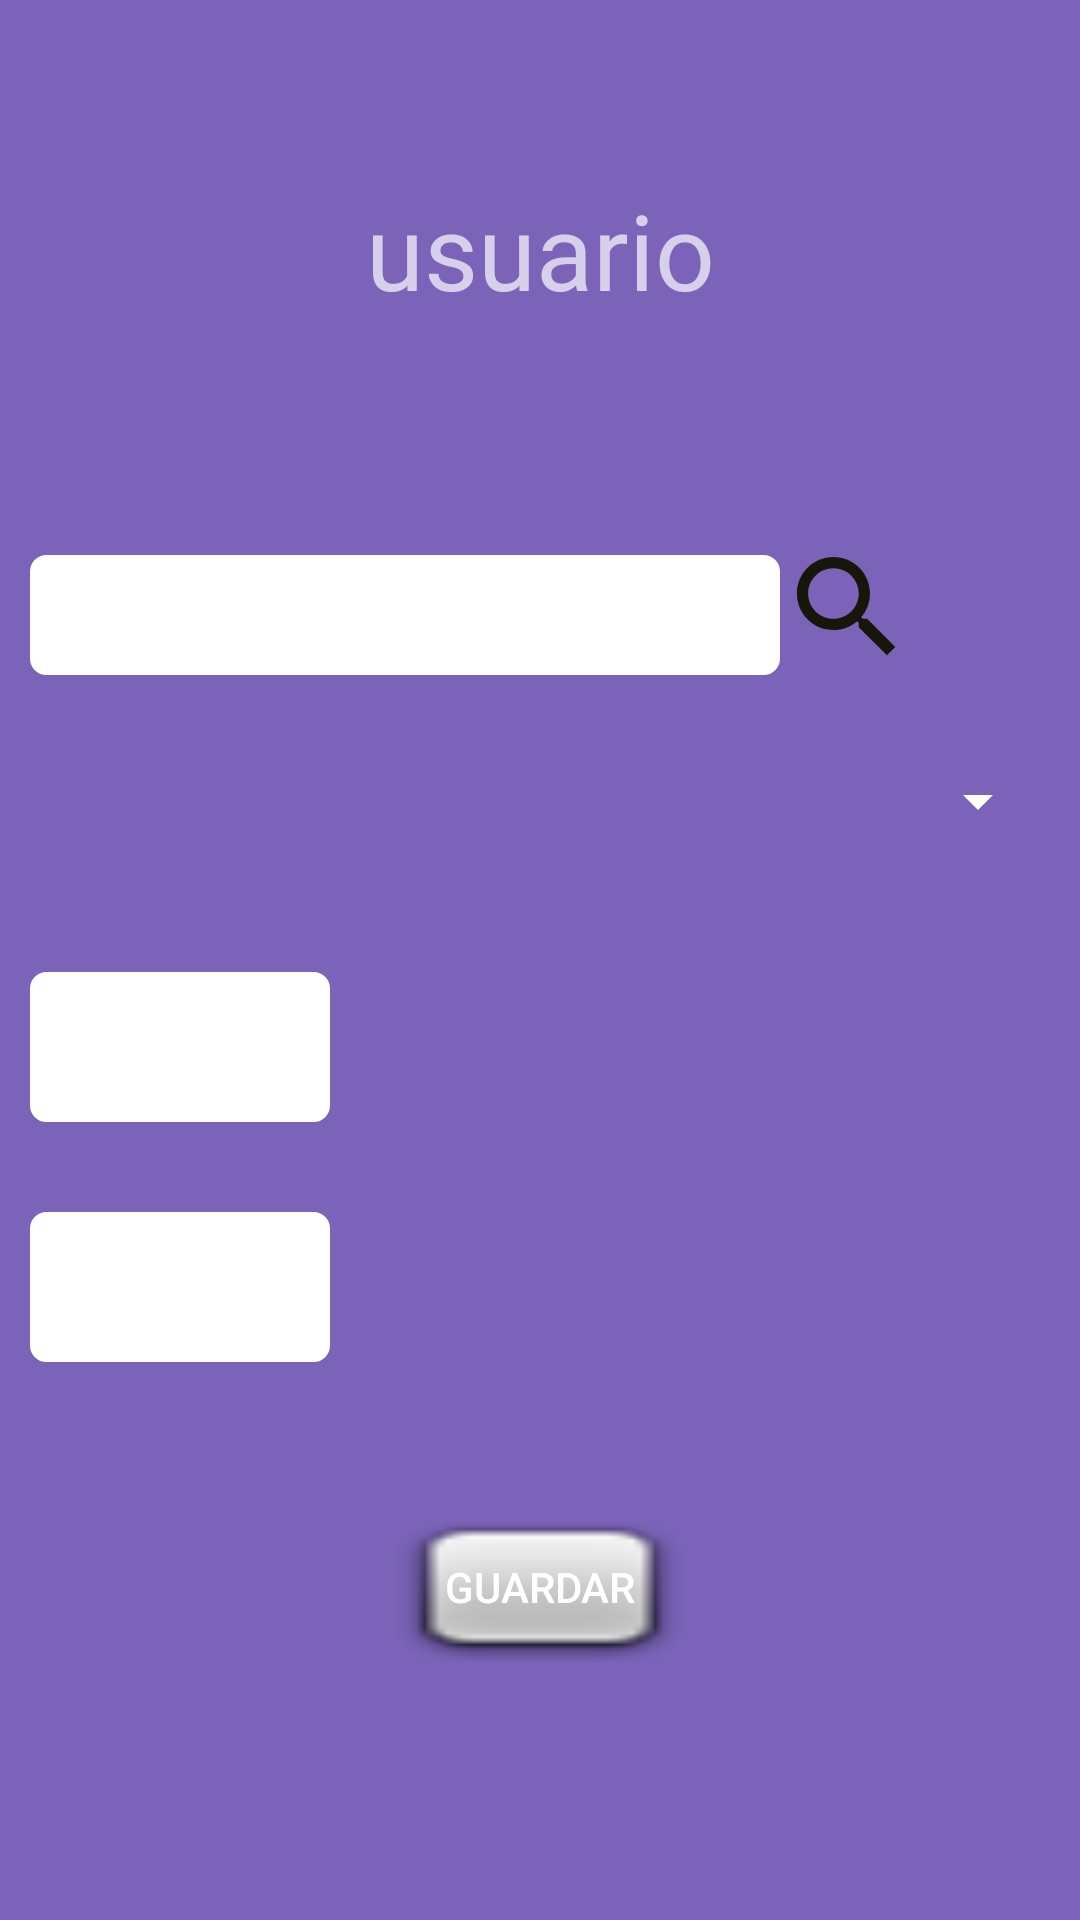

Icons on this 1080*1920 Android screen, each with the point to tap as (x=x, y=y):
buscar: (x=846, y=606)
